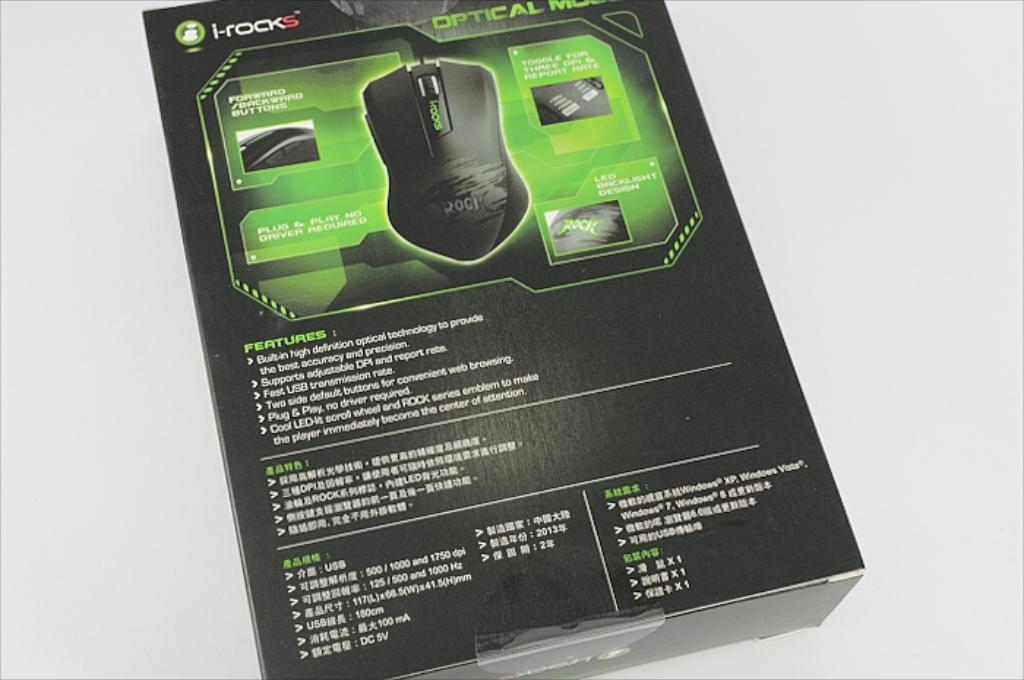Computer-mouse: (360, 58, 531, 257)
